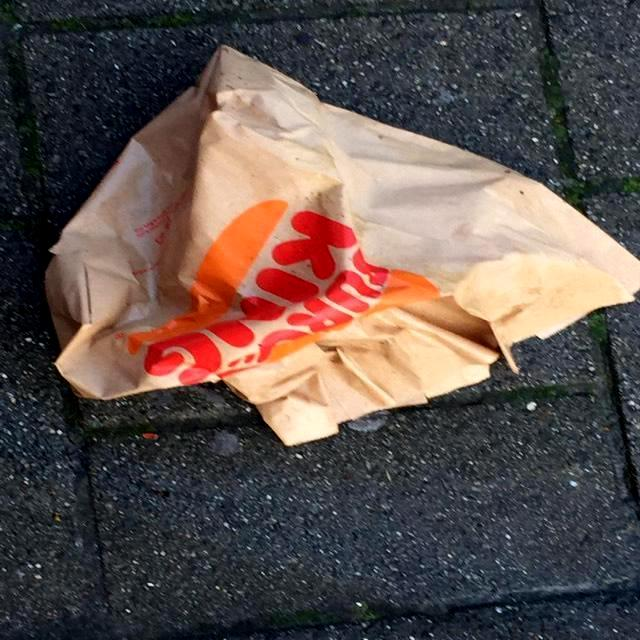Paper: (35, 38, 640, 450)
